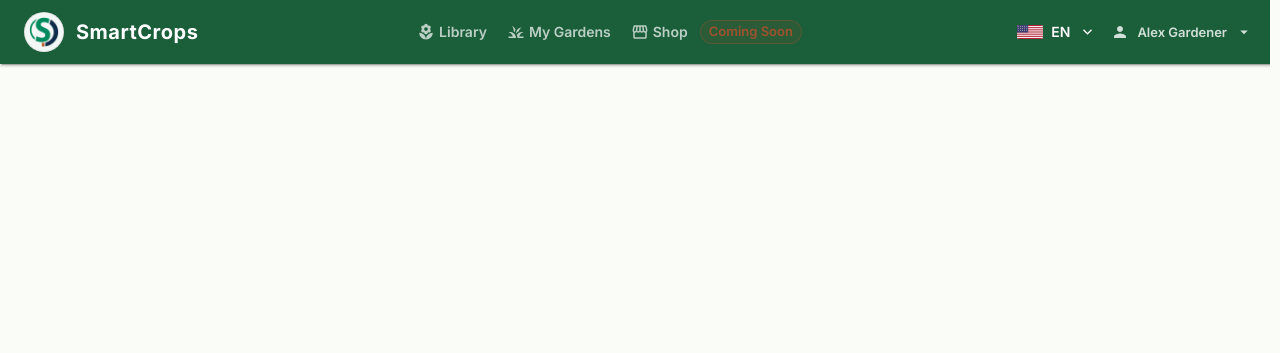
Test: Admin entry (SMA-414) › shows the Administration item, with the Admin tag, in the desktop menu for an admin
The width and height of the screenshot is (1280, 353).
Step 1. Click the button "Alex Gardener" → (1182, 32), box [1108, 17, 1256, 47]
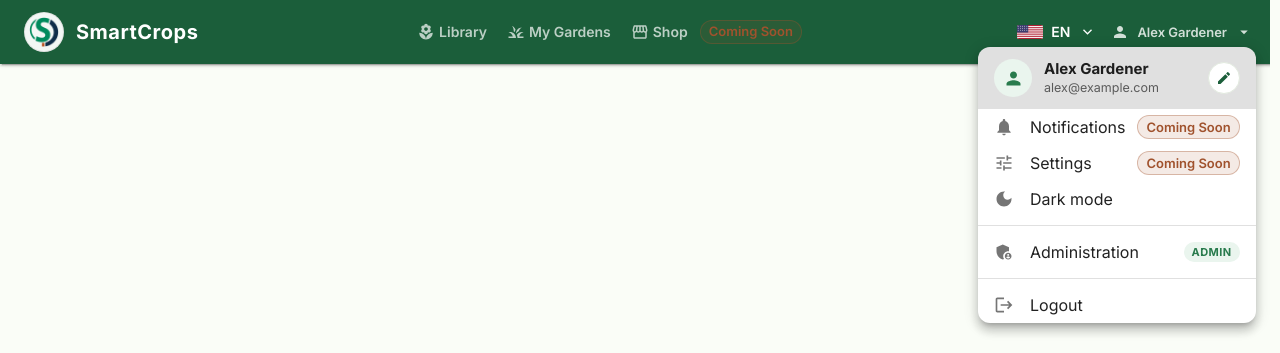
Check: the text "Admin" is shown, box [1192, 245, 1232, 259]
Check: the text "Logout" is shown, box [1030, 295, 1083, 315]
